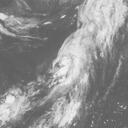cyclone: (50, 27, 105, 88)
